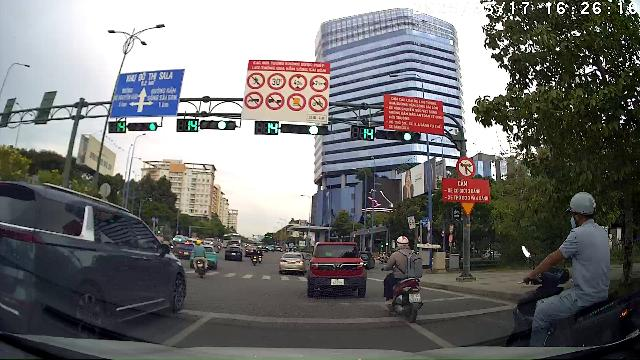137-cam-re-trai-va-re-phai: (456, 156, 476, 178)
